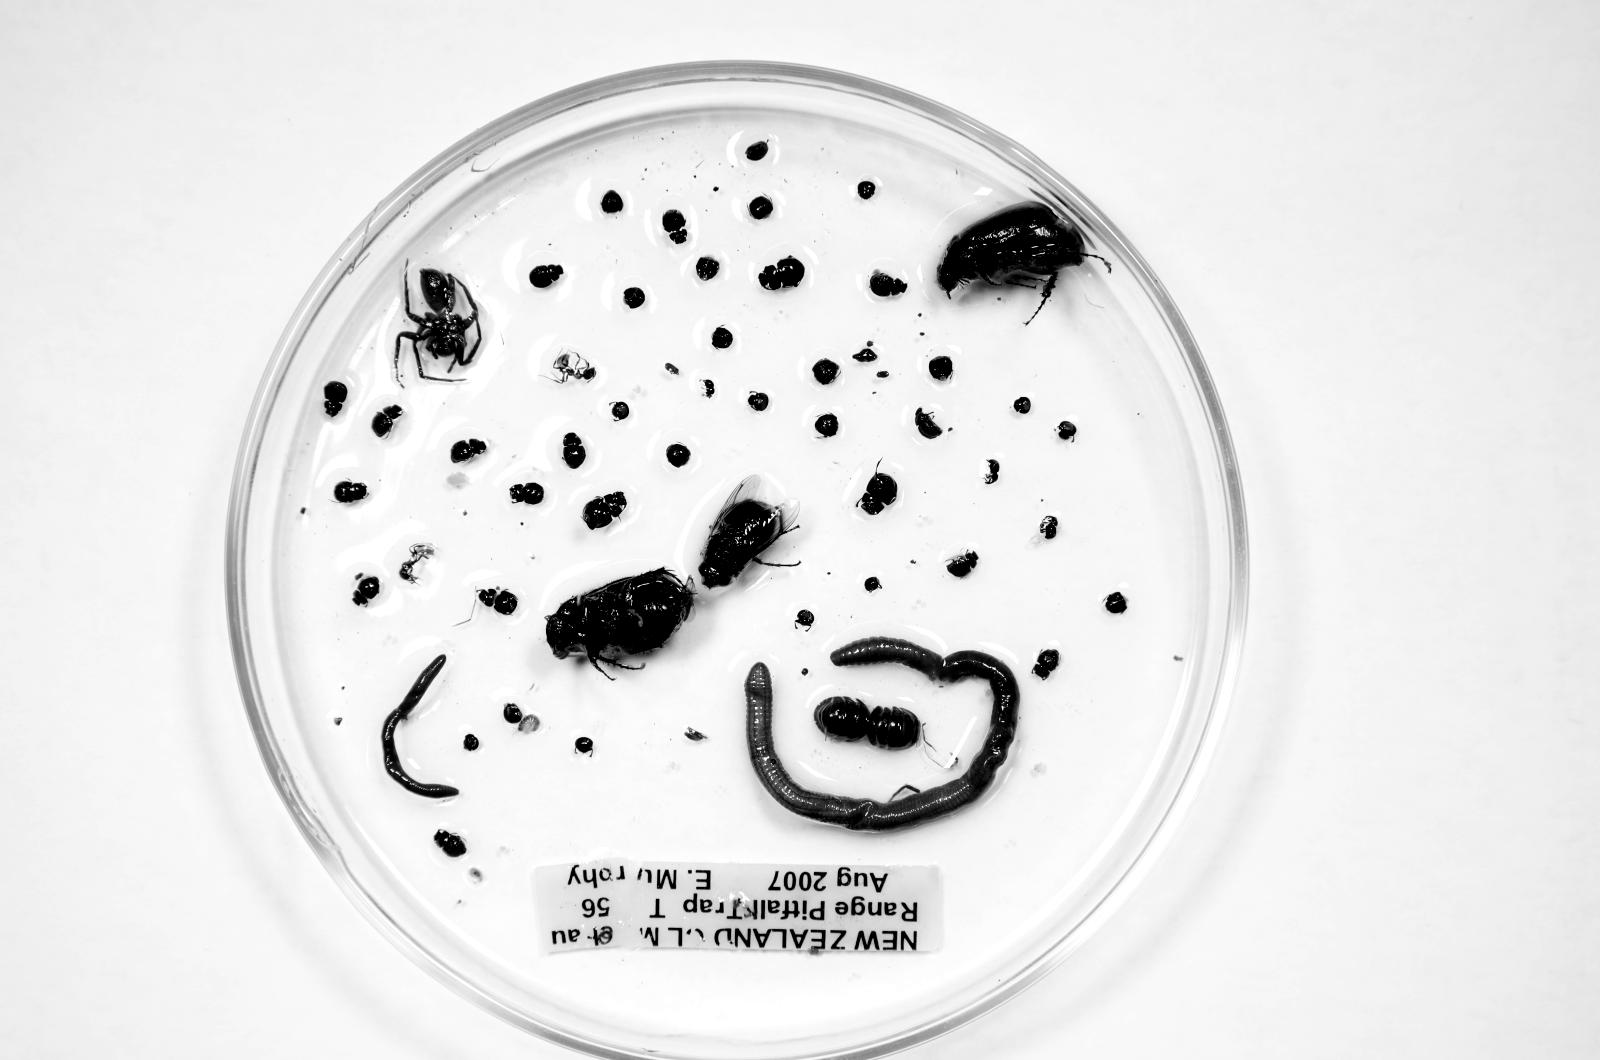annelida: (745, 637, 1019, 831), (382, 655, 459, 798)
araneae: (394, 269, 482, 382)
coleoptera: (546, 568, 695, 669), (937, 203, 1092, 299), (857, 472, 897, 515), (758, 256, 805, 291), (583, 492, 627, 529), (477, 587, 518, 615), (371, 404, 403, 438), (869, 269, 907, 297), (434, 828, 467, 858), (662, 209, 689, 245), (914, 407, 943, 439), (323, 380, 348, 417), (561, 432, 586, 469), (353, 573, 381, 606), (451, 438, 487, 463), (946, 550, 978, 578), (529, 264, 564, 288), (1033, 648, 1060, 679), (509, 482, 544, 505), (334, 480, 368, 503), (1038, 515, 1059, 540), (984, 459, 1001, 484)
diptera: (698, 498, 792, 588)
formicidae: (398, 544, 435, 584), (552, 352, 596, 383)
isopoda: (814, 695, 871, 741), (863, 706, 920, 750)
